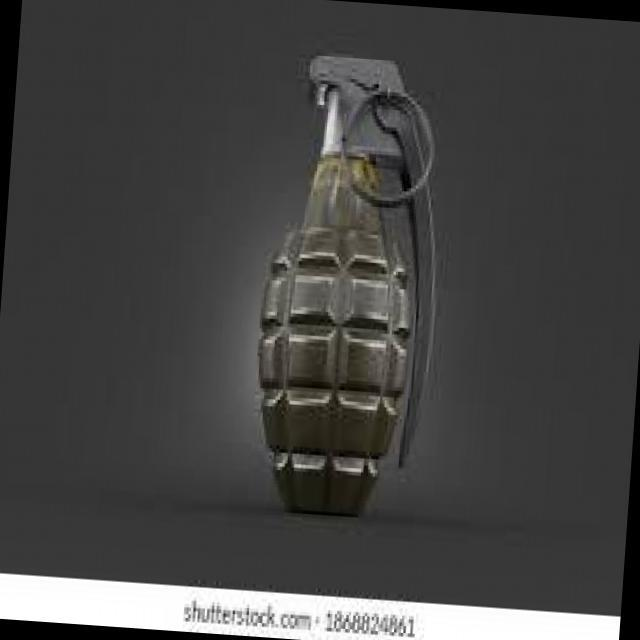grenade: (244, 31, 451, 522)
